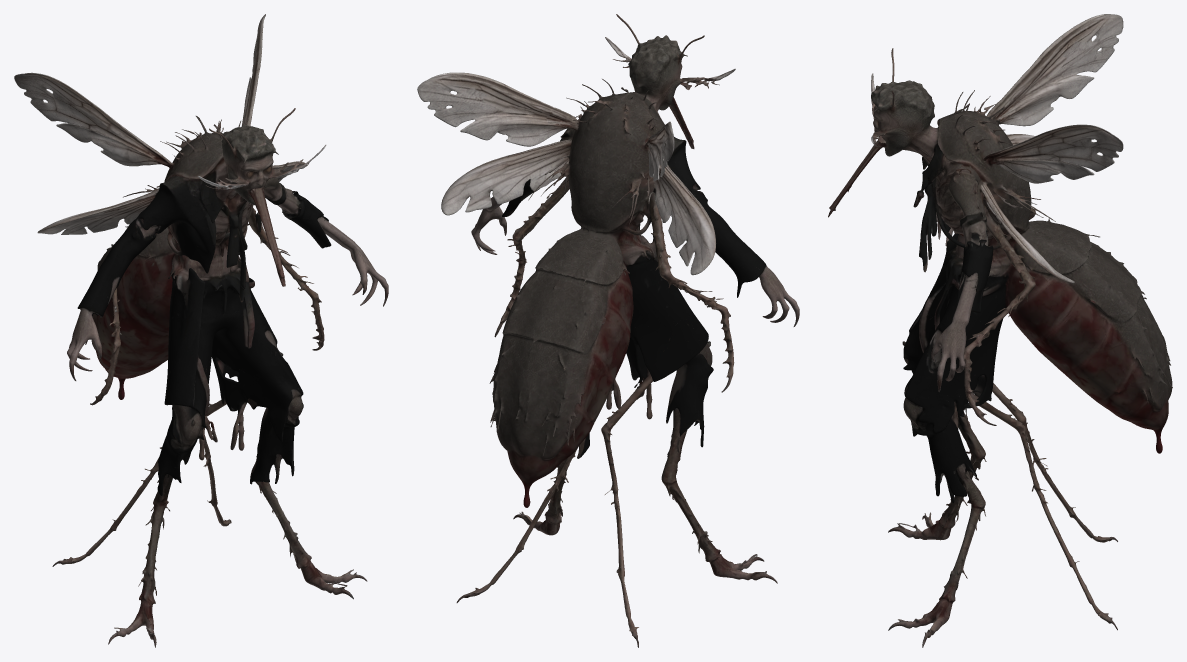
The model's file is pastor_2.glb.
3 views of the same model, side by side, from view 1: azimuth 30°, elevation 25°; view 2: azimuth 150°, elevation 25°; view 3: azimuth 270°, elevation 25° (orthographic). The views are drawn at different scales.
Bounding box in the file's own units: 1.25 × 1.9 × 1.15.
1 material, 1 textured.
